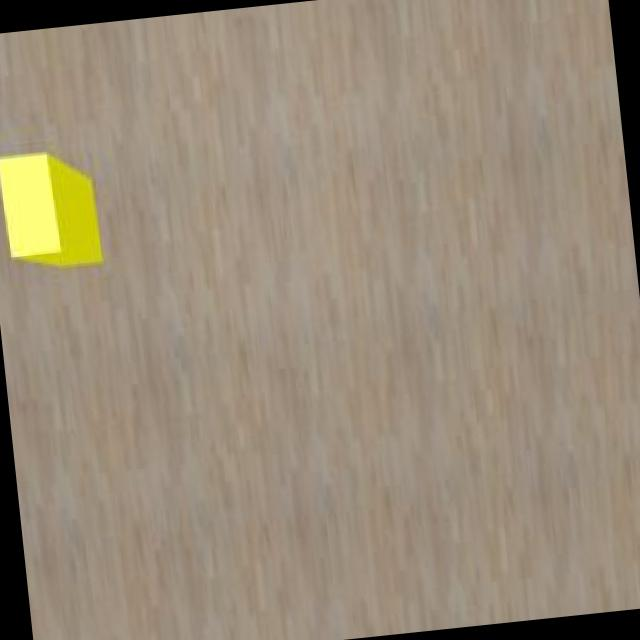cube-cAb5: (0, 141, 101, 274)
